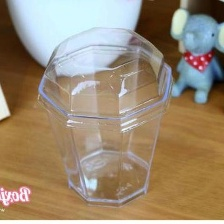glass: (27, 20, 179, 210)
